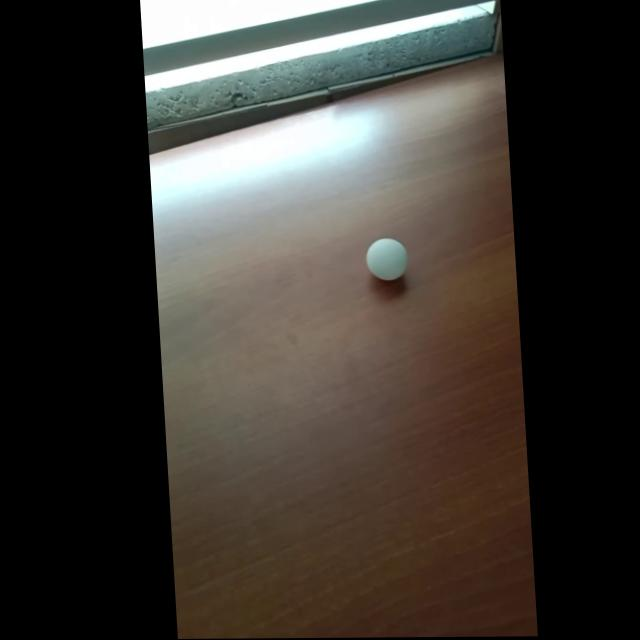white ball: (364, 237, 409, 281)
